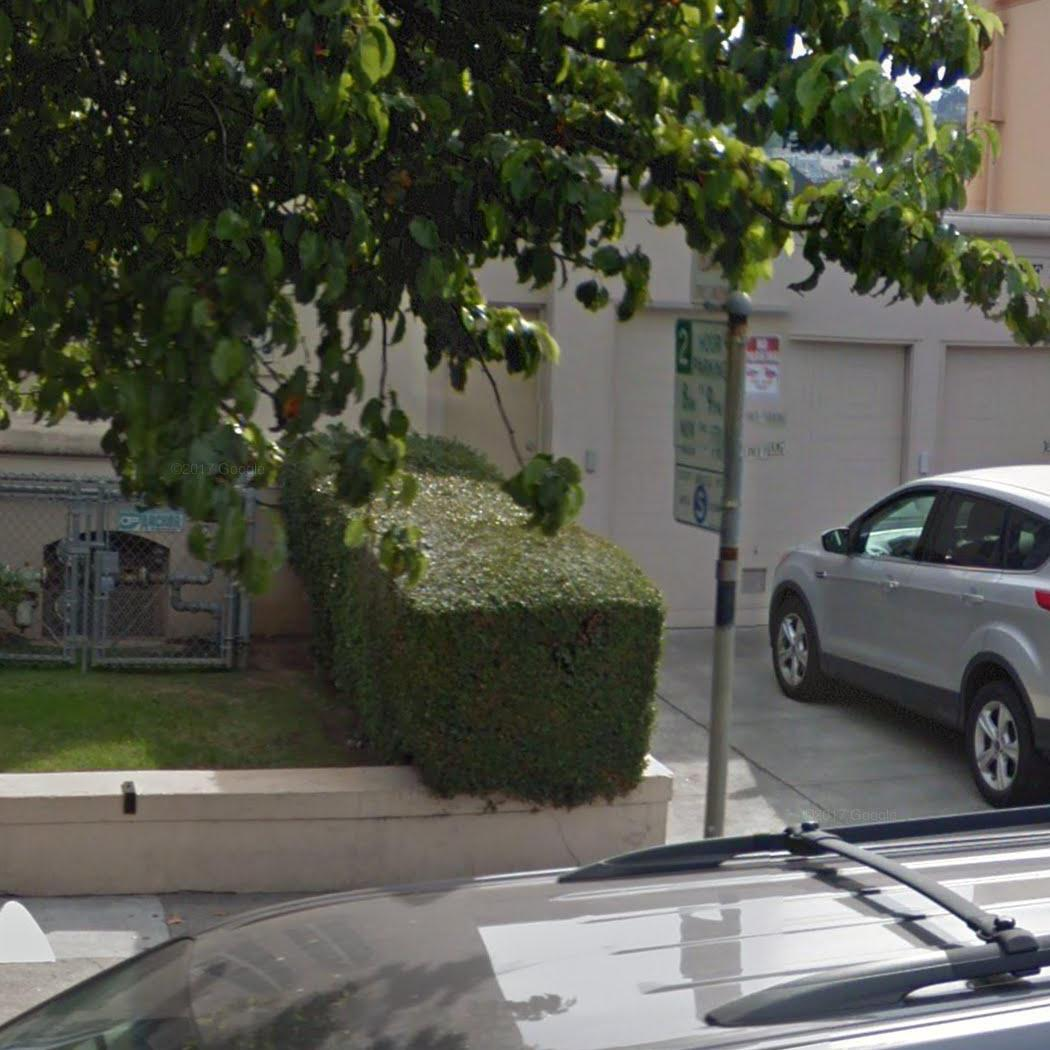2 Hour Parking: (668, 312, 733, 531)
